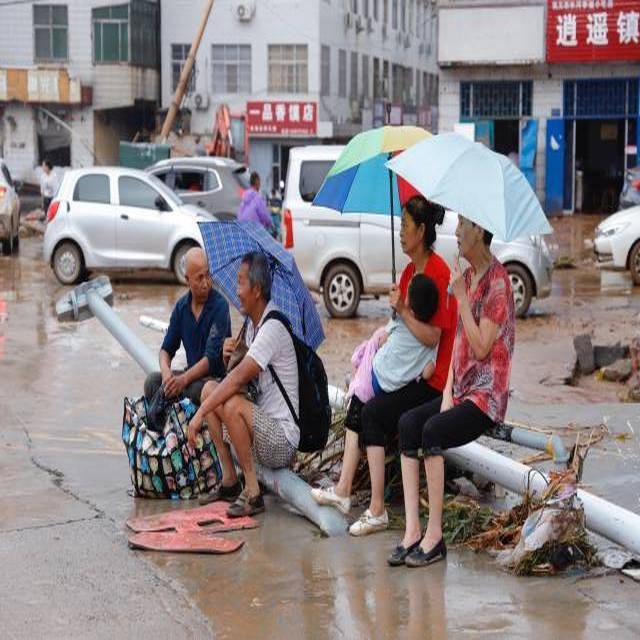Person-RiskLevel0: (313, 186, 454, 544), (417, 214, 517, 576), (202, 252, 318, 519), (140, 238, 234, 457)
